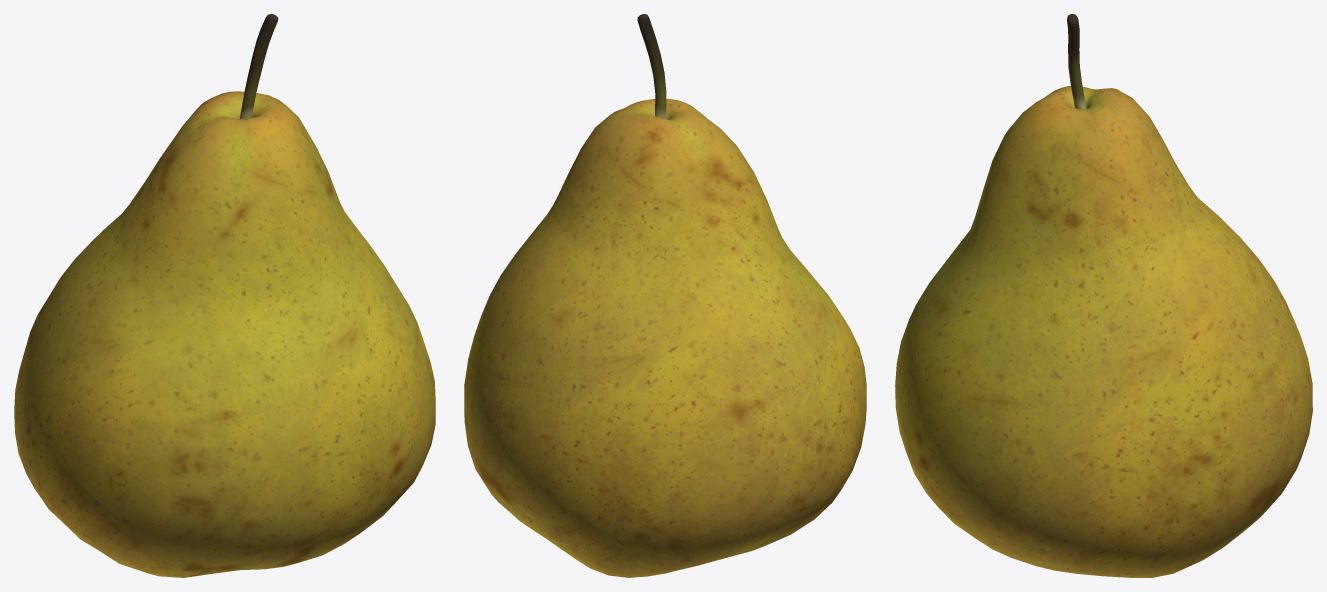
File: pear_1.glb
3 renders of one model, left to right at view 1: azimuth 30°, elevation 25°; view 2: azimuth 150°, elevation 25°; view 3: azimuth 270°, elevation 25°, orthographic. The views are drawn at different scales.
Visible parts, largest first — view 1: Pear; view 2: Pear; view 3: Pear.
Boxes of the visible parts, <box> form: Pear: <box>14,14,435,577</box>; Pear: <box>464,14,866,577</box>; Pear: <box>895,14,1312,577</box>.
Bounding box in the file's own units: 0.0695 × 0.0952 × 0.0657.
1 material, 1 textured.
